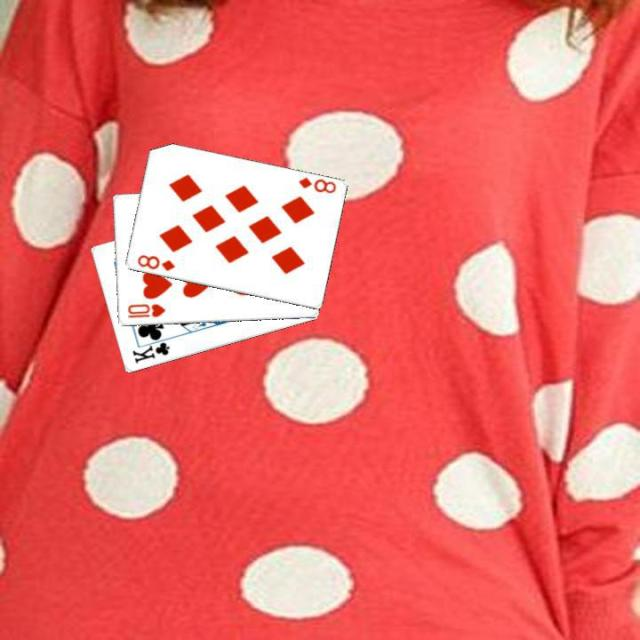10H: (124, 300, 167, 320)
8D: (294, 173, 338, 196), (133, 251, 177, 273)
KC: (128, 334, 172, 366)
